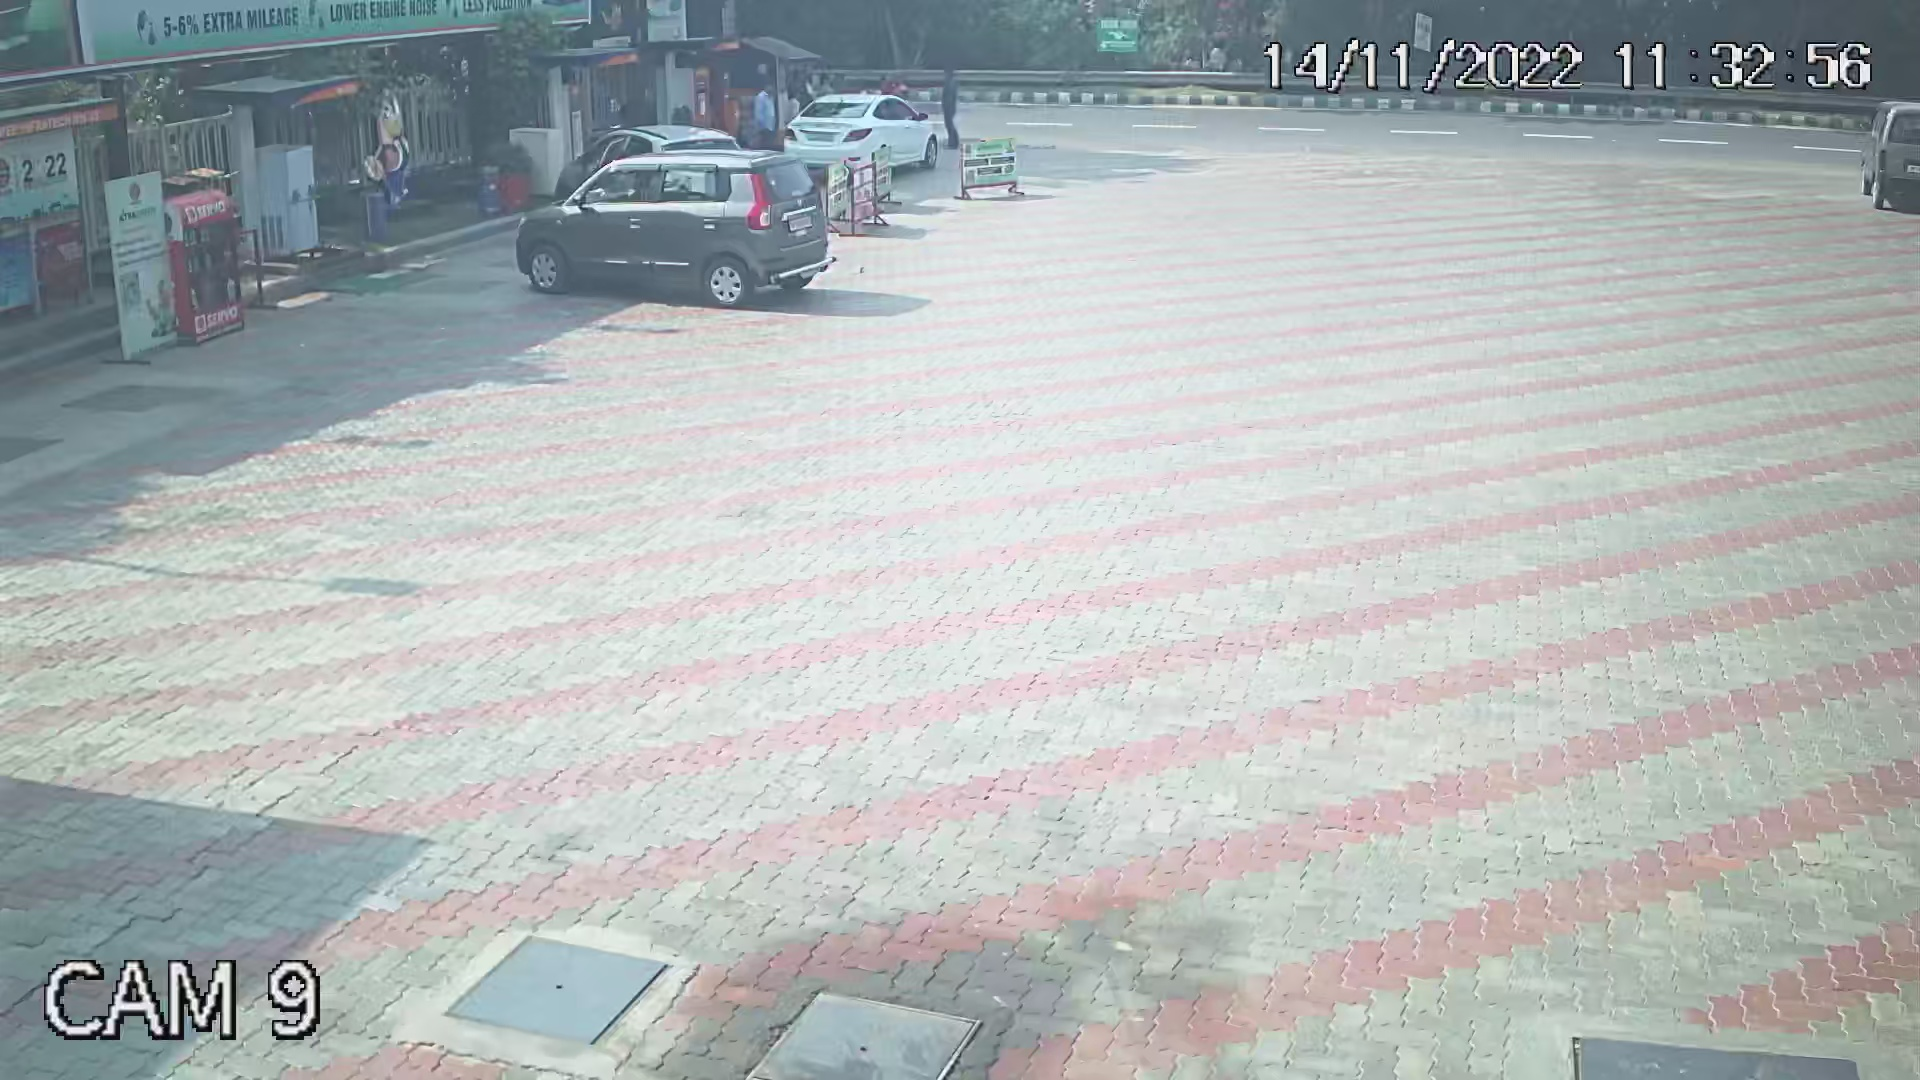Car: (513, 129, 844, 322), (770, 76, 955, 195), (551, 127, 748, 212), (1855, 90, 1917, 219)
